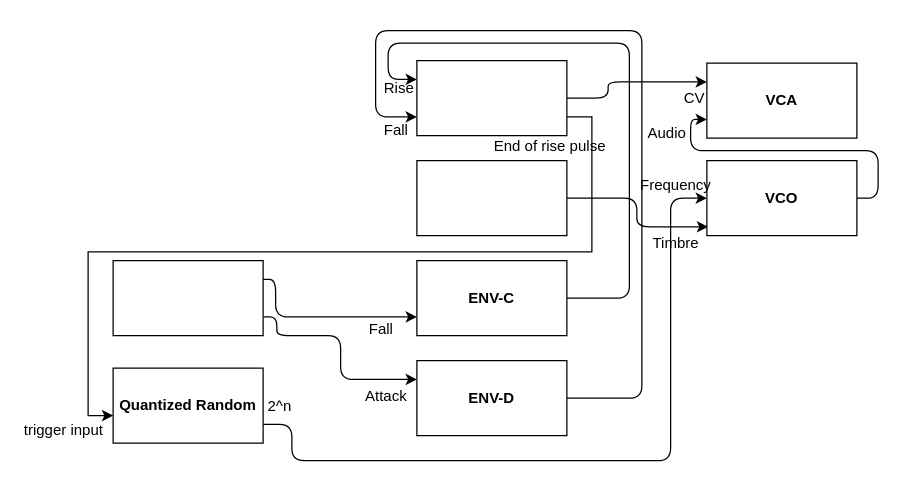
The diagram is 910 pixels wide and 493 high, and some of its shapes have lost their labels. The centre of each missing label's shape, as x and y in pixels:
"ENV-A" goes at pixel 491 97.
"ENV-B" goes at pixel 491 197.
"Fluctuating Random" goes at pixel 187 297.
